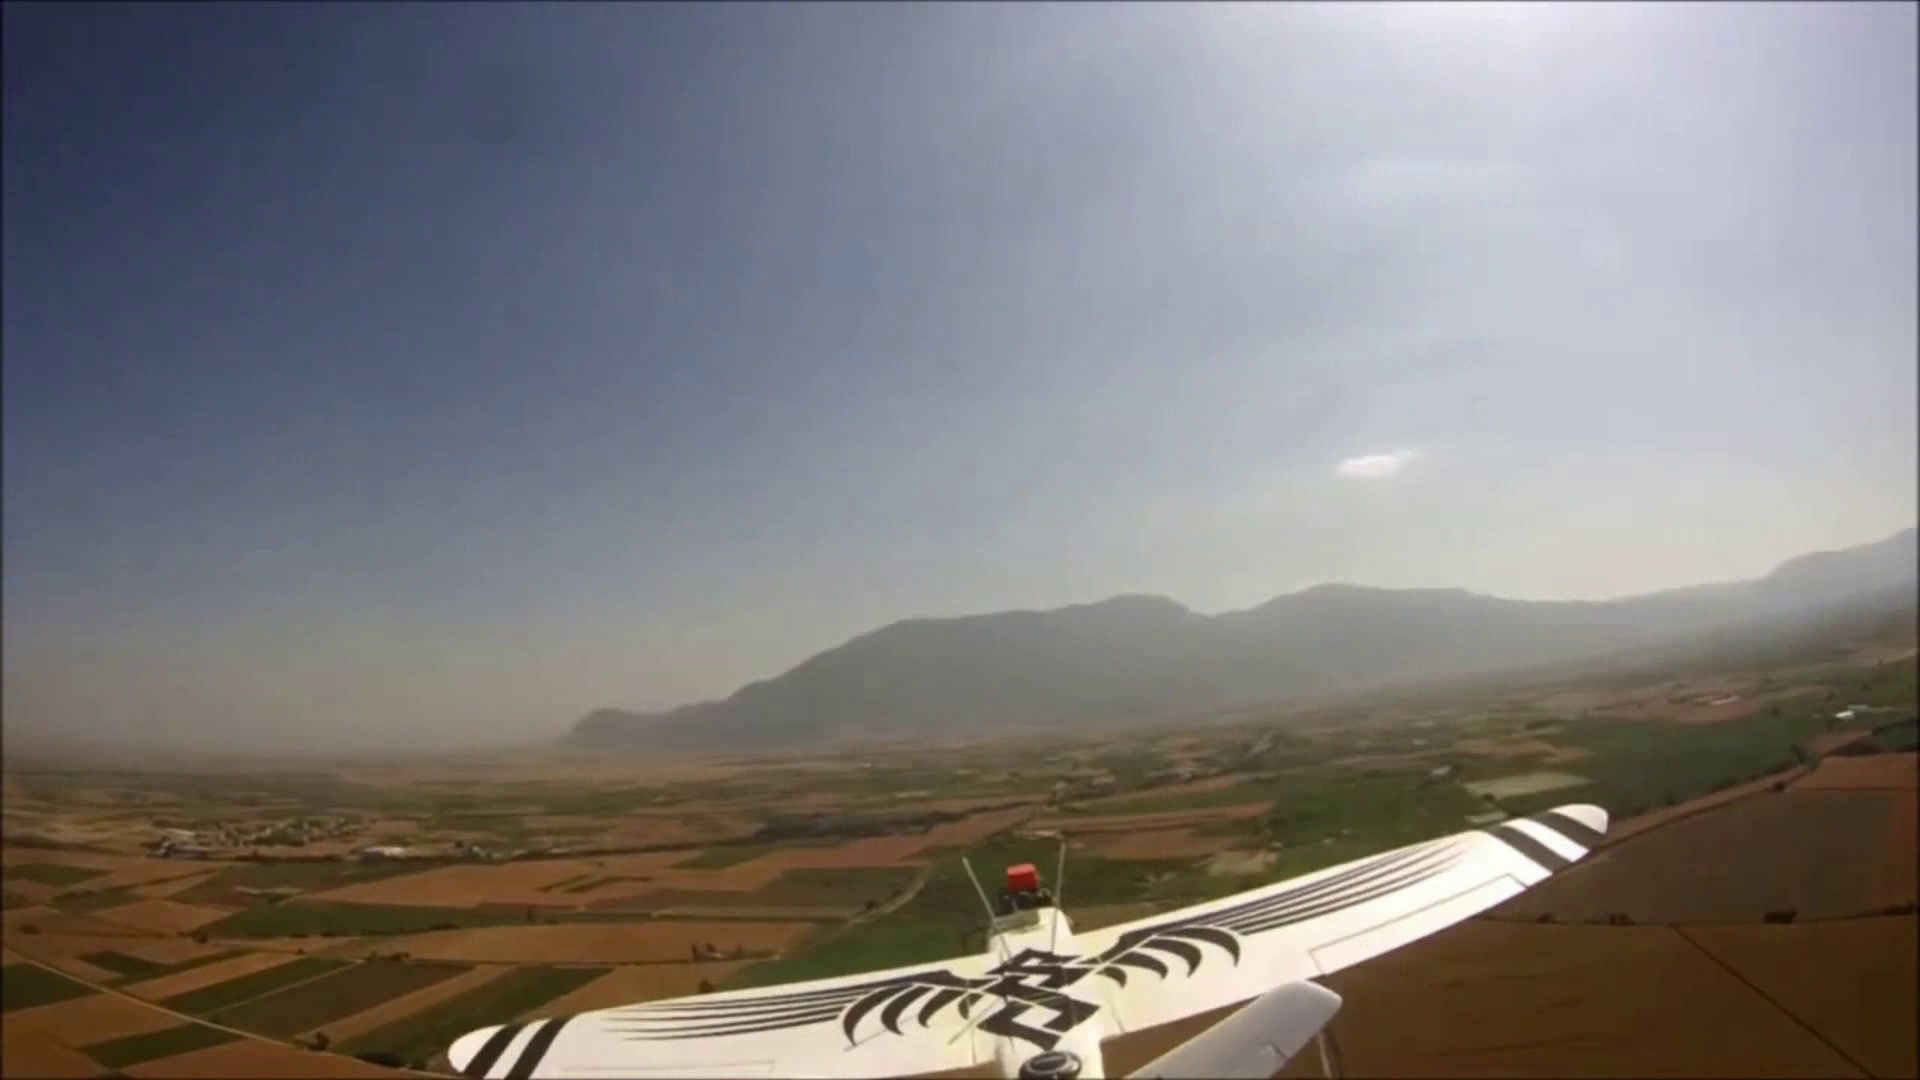airplane: (51, 753, 1742, 1073), (367, 717, 1865, 1072), (202, 804, 1596, 1073)
